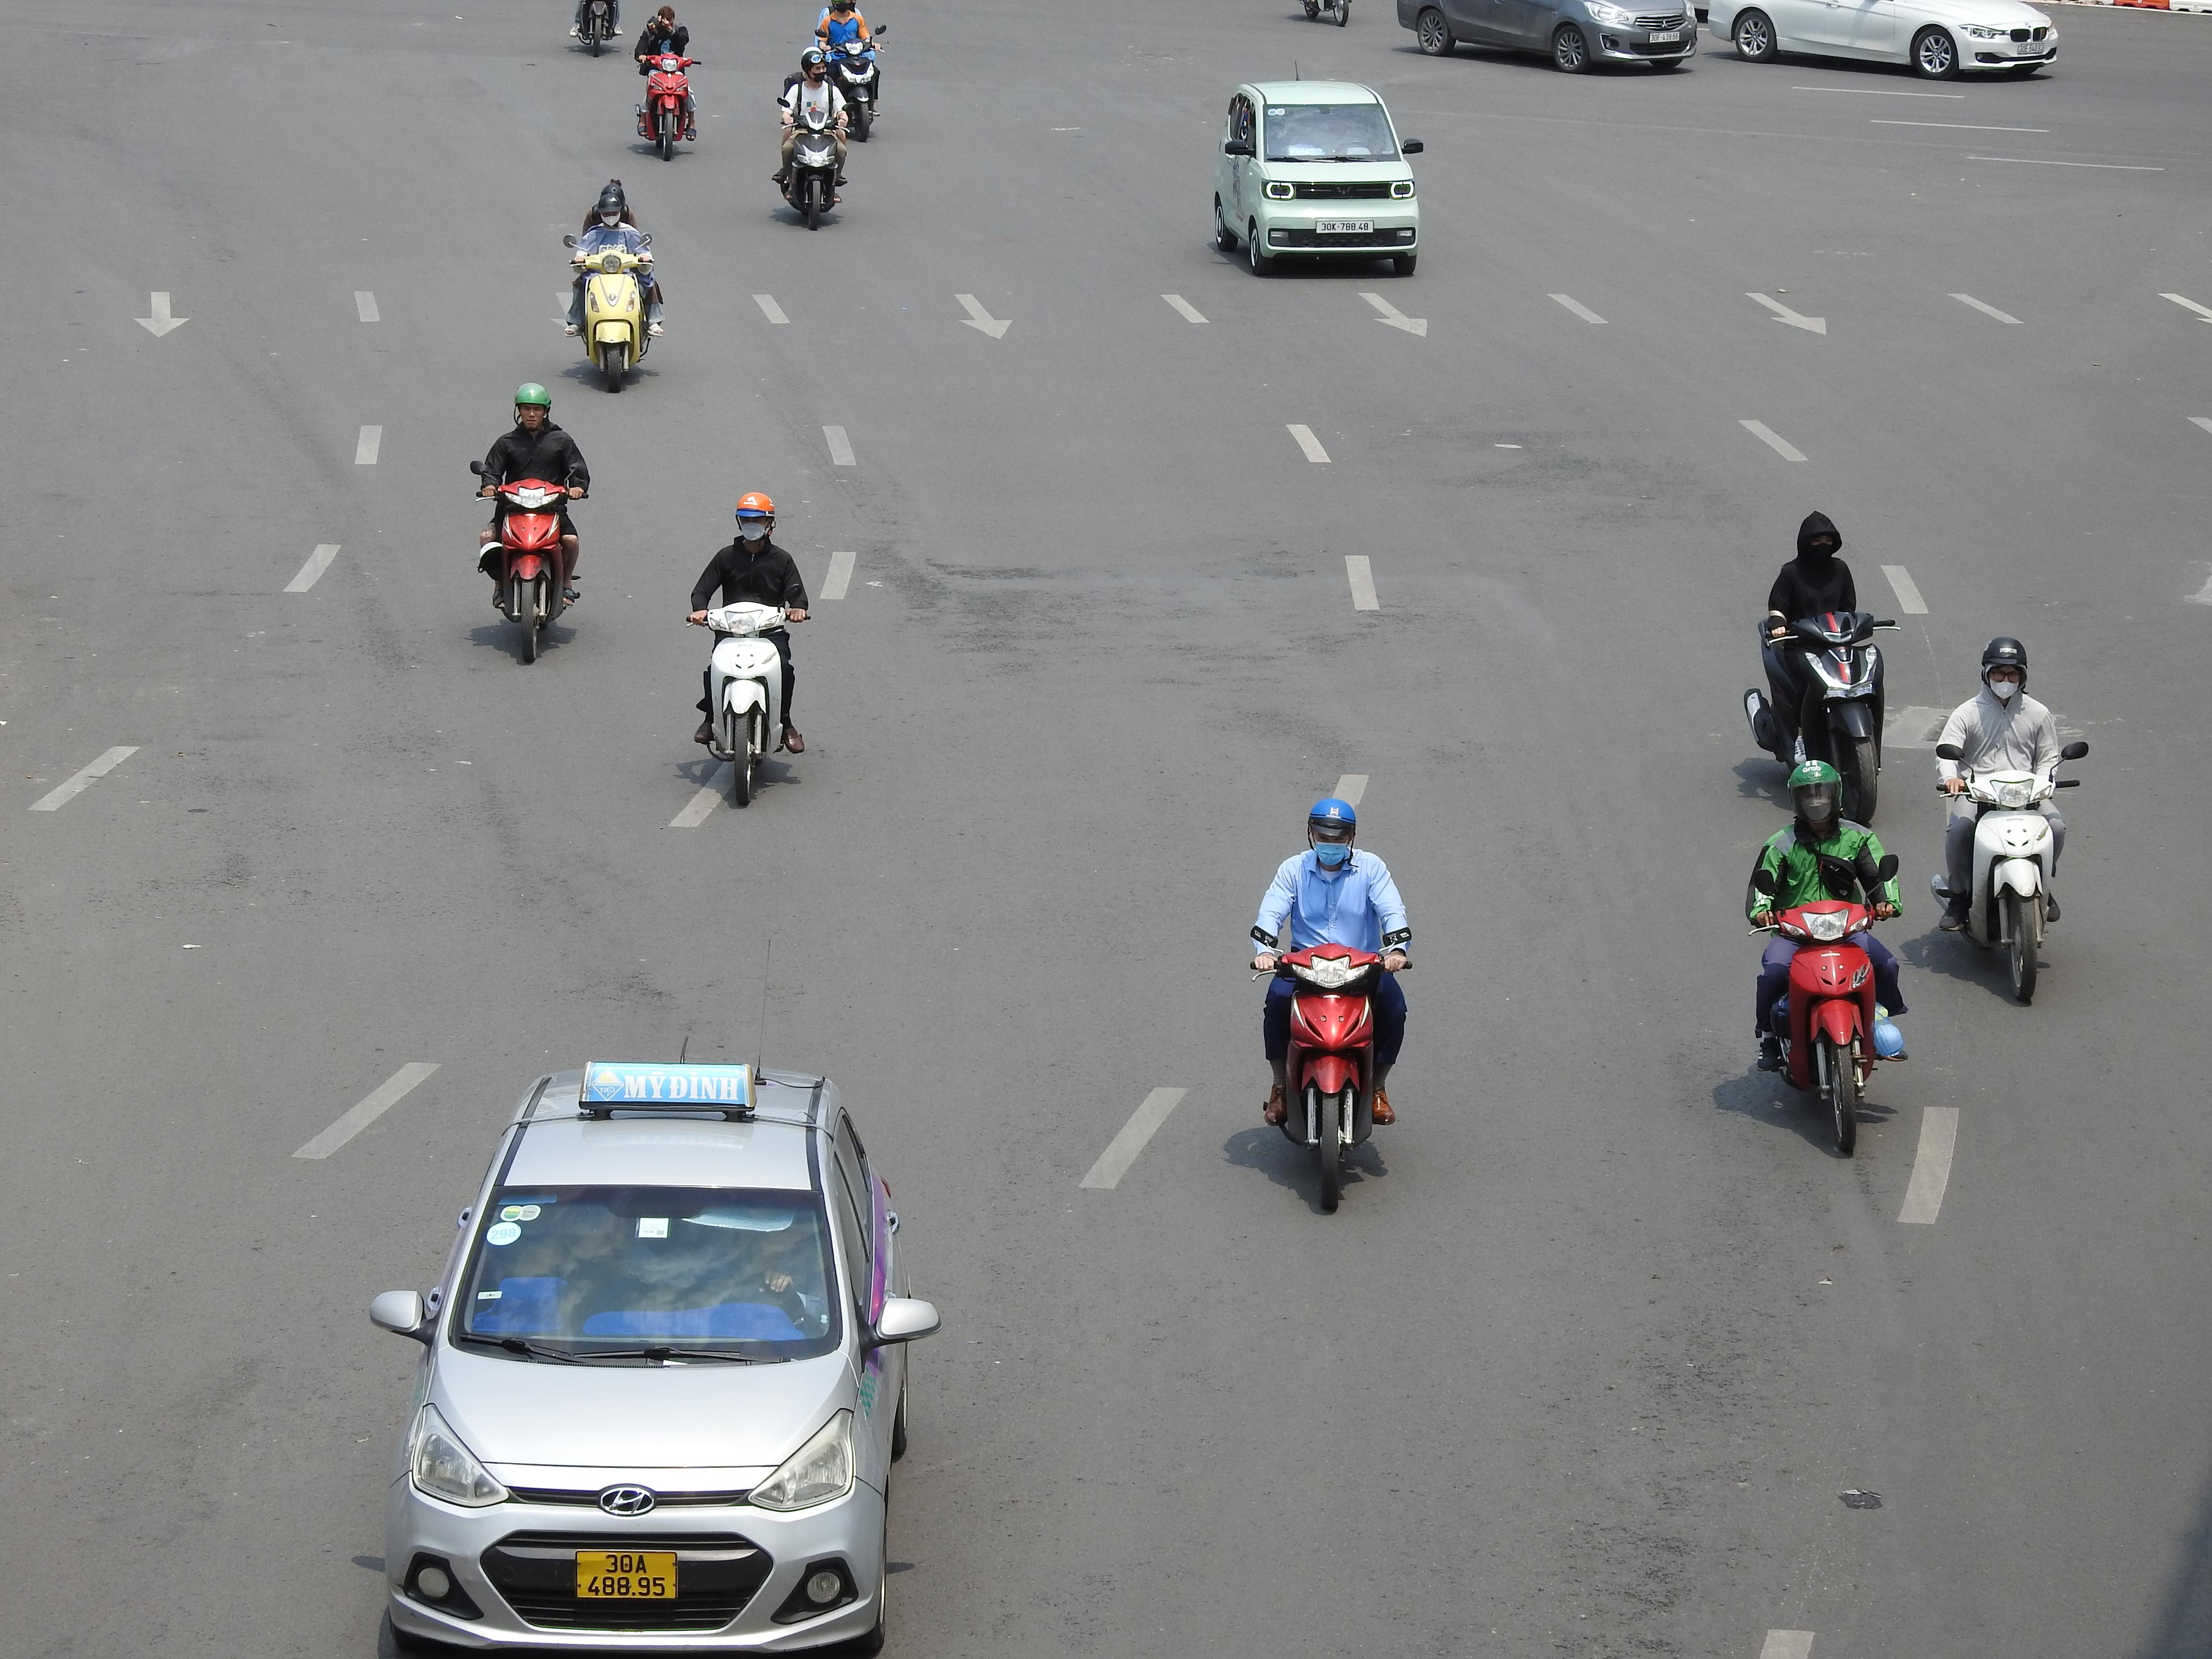BSD: (1315, 220, 1374, 234), (1649, 31, 1681, 44), (2017, 42, 2045, 54)
BSV: (575, 1549, 676, 1601)
car: (366, 1058, 942, 1657), (1211, 78, 1425, 279), (1700, 0, 2059, 82), (1397, 0, 1700, 75)
motorbike: (1252, 793, 1413, 1216), (1747, 756, 1907, 1157), (1932, 634, 2087, 1007), (1745, 509, 1897, 823), (690, 491, 810, 810), (475, 383, 587, 666), (564, 179, 664, 394), (773, 49, 848, 232), (634, 3, 698, 162), (812, 0, 883, 139), (568, 0, 624, 58), (1296, 0, 1353, 26)
